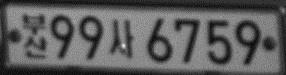5: (206, 19, 232, 64)
6: (146, 18, 172, 62)
7: (173, 18, 200, 63)
9: (234, 18, 261, 64), (49, 13, 75, 59), (78, 16, 104, 60)
부산_V: (21, 12, 47, 59)
사: (109, 18, 134, 58)
